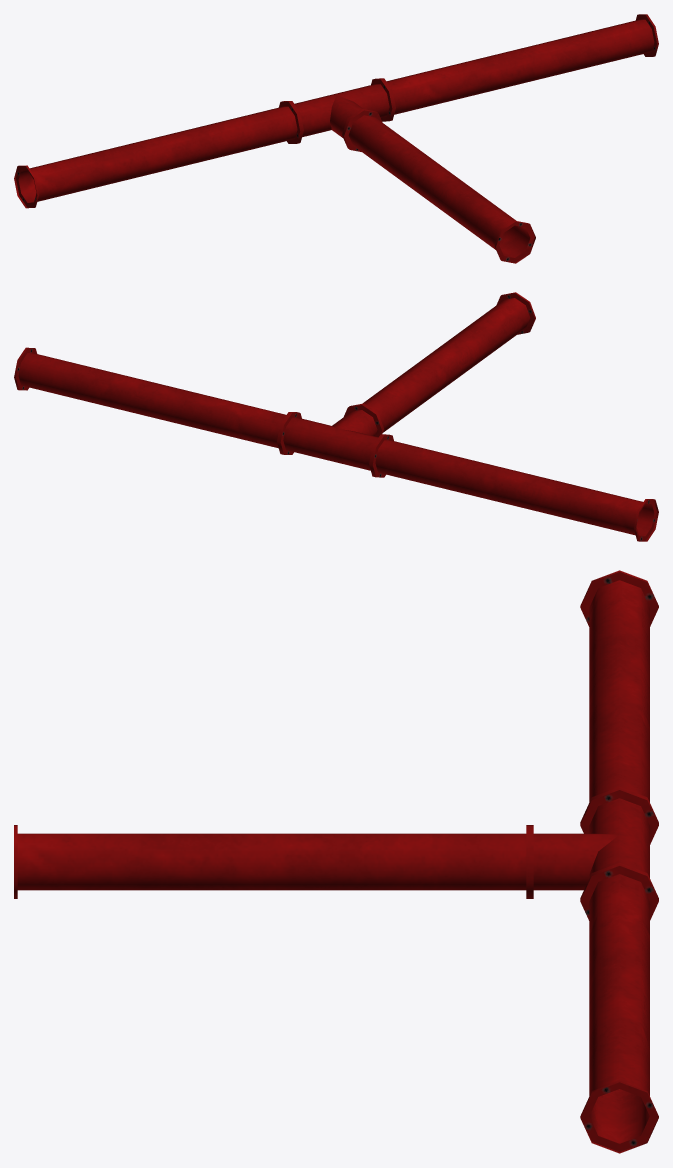
File: PipeBig_2m_T.FBX
The picture shows the model from 3 angles, top to bottom: view 1: azimuth 30°, elevation 25°; view 2: azimuth 150°, elevation 25°; view 3: azimuth 270°, elevation 25°; orthographic projection. The views are drawn at different scales.
Visible parts, largest first — view 1: PipeBig_2m_T; view 2: PipeBig_2m_T; view 3: PipeBig_2m_T.
Boxes of the visible parts, x1,y1,x2,y2 form: PipeBig_2m_T: (14,14,658,263); PipeBig_2m_T: (14,292,658,541); PipeBig_2m_T: (14,570,658,1153).
Bounding box in the file's own units: 78.74 × 5.12 × 41.93.
